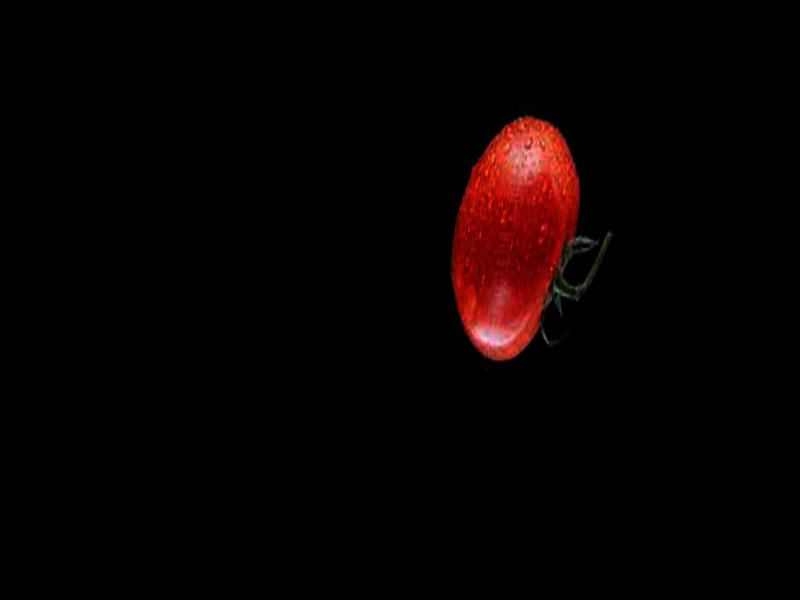Tomato: (435, 106, 593, 369)
